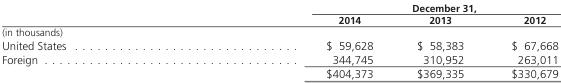table: (1, 1, 557, 80)
table column: (195, 1, 394, 80), (1, 1, 195, 80), (394, 1, 486, 80), (486, 1, 557, 80)
table column header: (1, 1, 557, 38)
table row: (1, 13, 557, 38), (1, 38, 557, 52), (1, 52, 557, 66), (1, 66, 557, 80), (1, 1, 557, 13)
table spanning cell: (1, 1, 195, 38), (195, 1, 557, 13)
